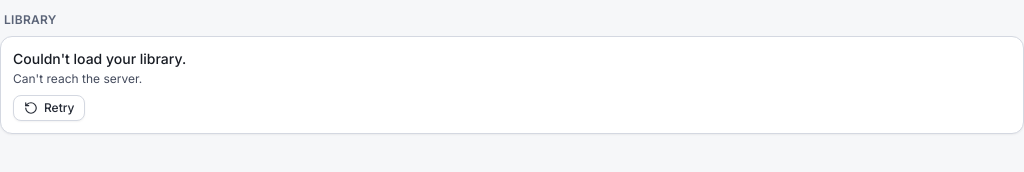
Scenario: DocumentList › shows an error with a working retry
Check: the message shows "Couldn't load your library.", box top-left (13, 50), bottom-right (186, 67)
Check: the message shows "Can't reach the server.", box top-left (13, 71), bottom-right (142, 86)
Step 1. Click the button "Retry" → click(49, 108), box top-left (13, 95), bottom-right (86, 121)
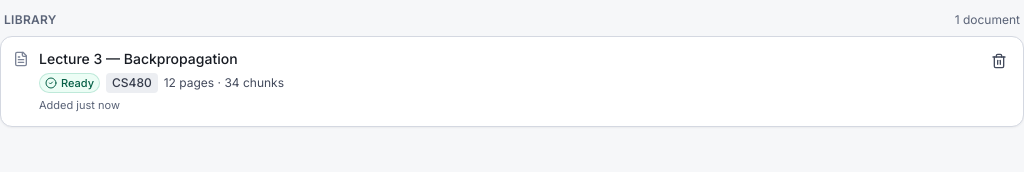
Check: the text "Lecture 3 — Backpropagation" is shown, box top-left (39, 50), bottom-right (238, 67)
